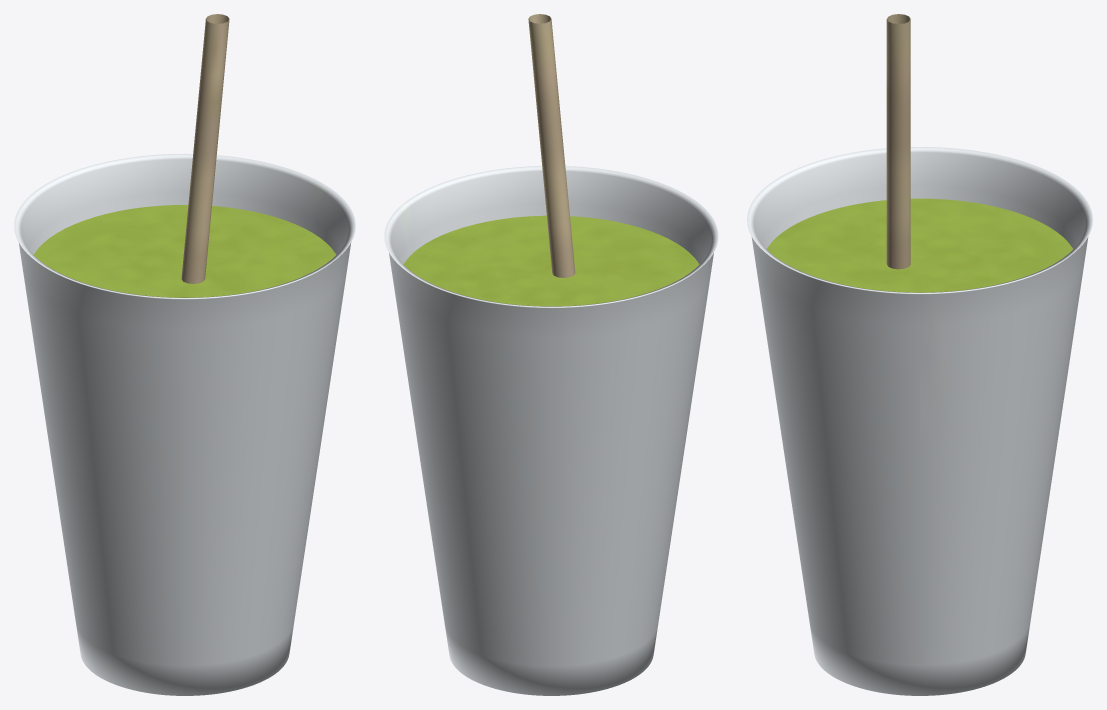
Rendered from green-tropical-detox.glb.
The picture shows the model from 3 angles, left to right: view 1: azimuth 30°, elevation 25°; view 2: azimuth 150°, elevation 25°; view 3: azimuth 270°, elevation 25°; orthographic projection. The views are drawn at different scales.
Parts seen in each view (by area): view 1: clear, gloss, satin; view 2: clear, gloss, satin; view 3: clear, gloss, satin.
Boxes of the visible parts, bbox=[...] form: clear: bbox=[14, 153, 355, 695]; gloss: bbox=[34, 205, 335, 297]; satin: bbox=[181, 14, 229, 283]; clear: bbox=[384, 166, 718, 695]; gloss: bbox=[403, 215, 699, 306]; satin: bbox=[528, 14, 575, 277]; clear: bbox=[747, 147, 1092, 695]; gloss: bbox=[767, 198, 1072, 292]; satin: bbox=[886, 14, 910, 269].
Bounding box in the file's own units: 0.098 × 0.201 × 0.098.
3 materials, 3 textured.
